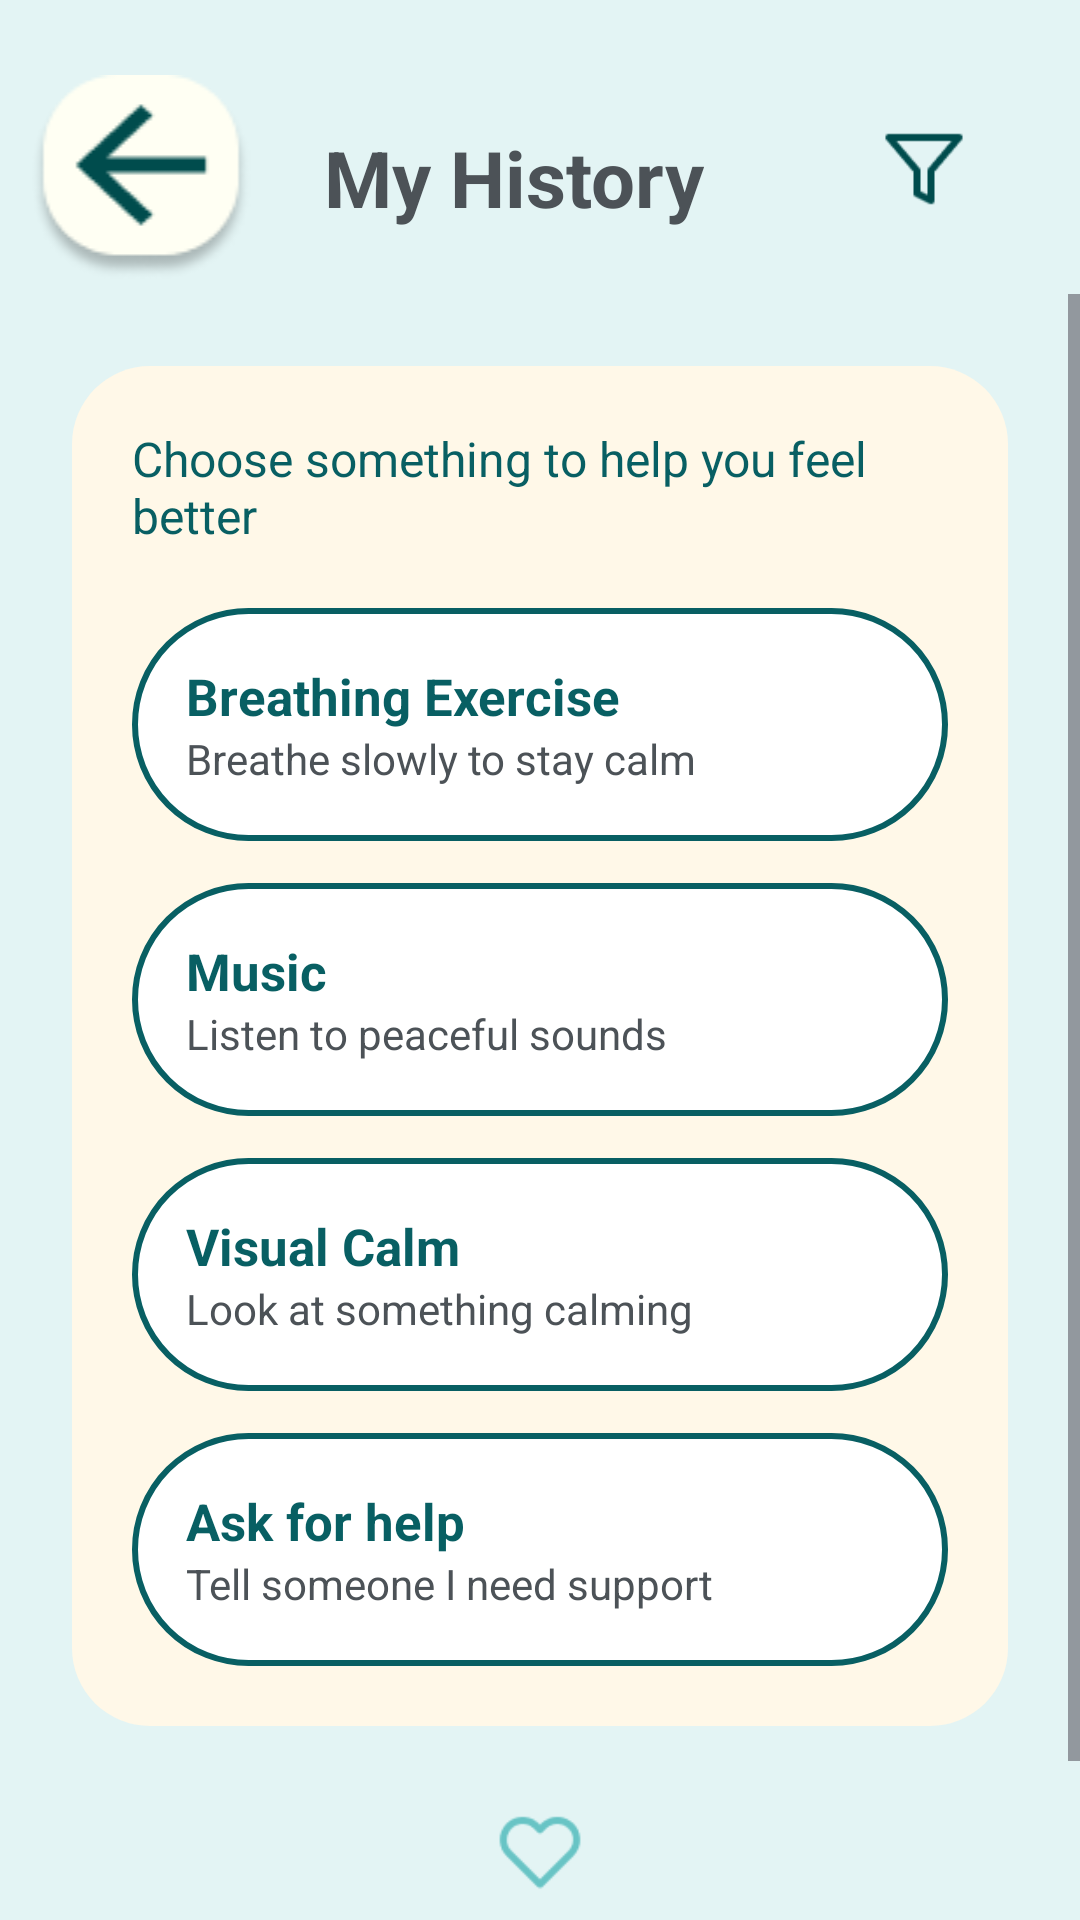

Icons on this 1080 × 1920 Android screen, each with the point to tap as (x,y):
Back: (141,171)
Filter history: (924,169)
heart: (540,1852)
